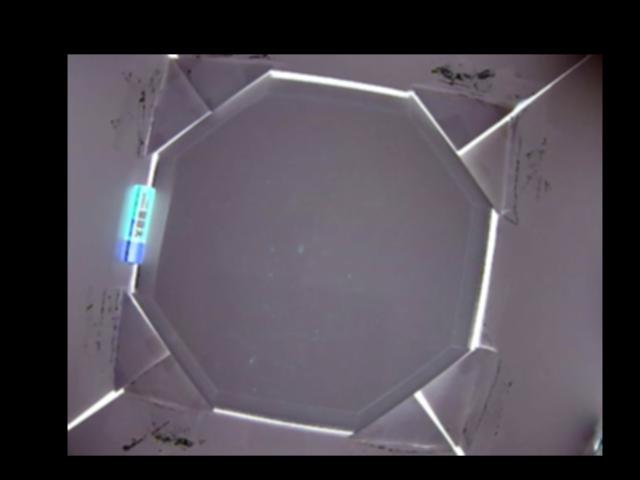Battery: (121, 183, 154, 265)
